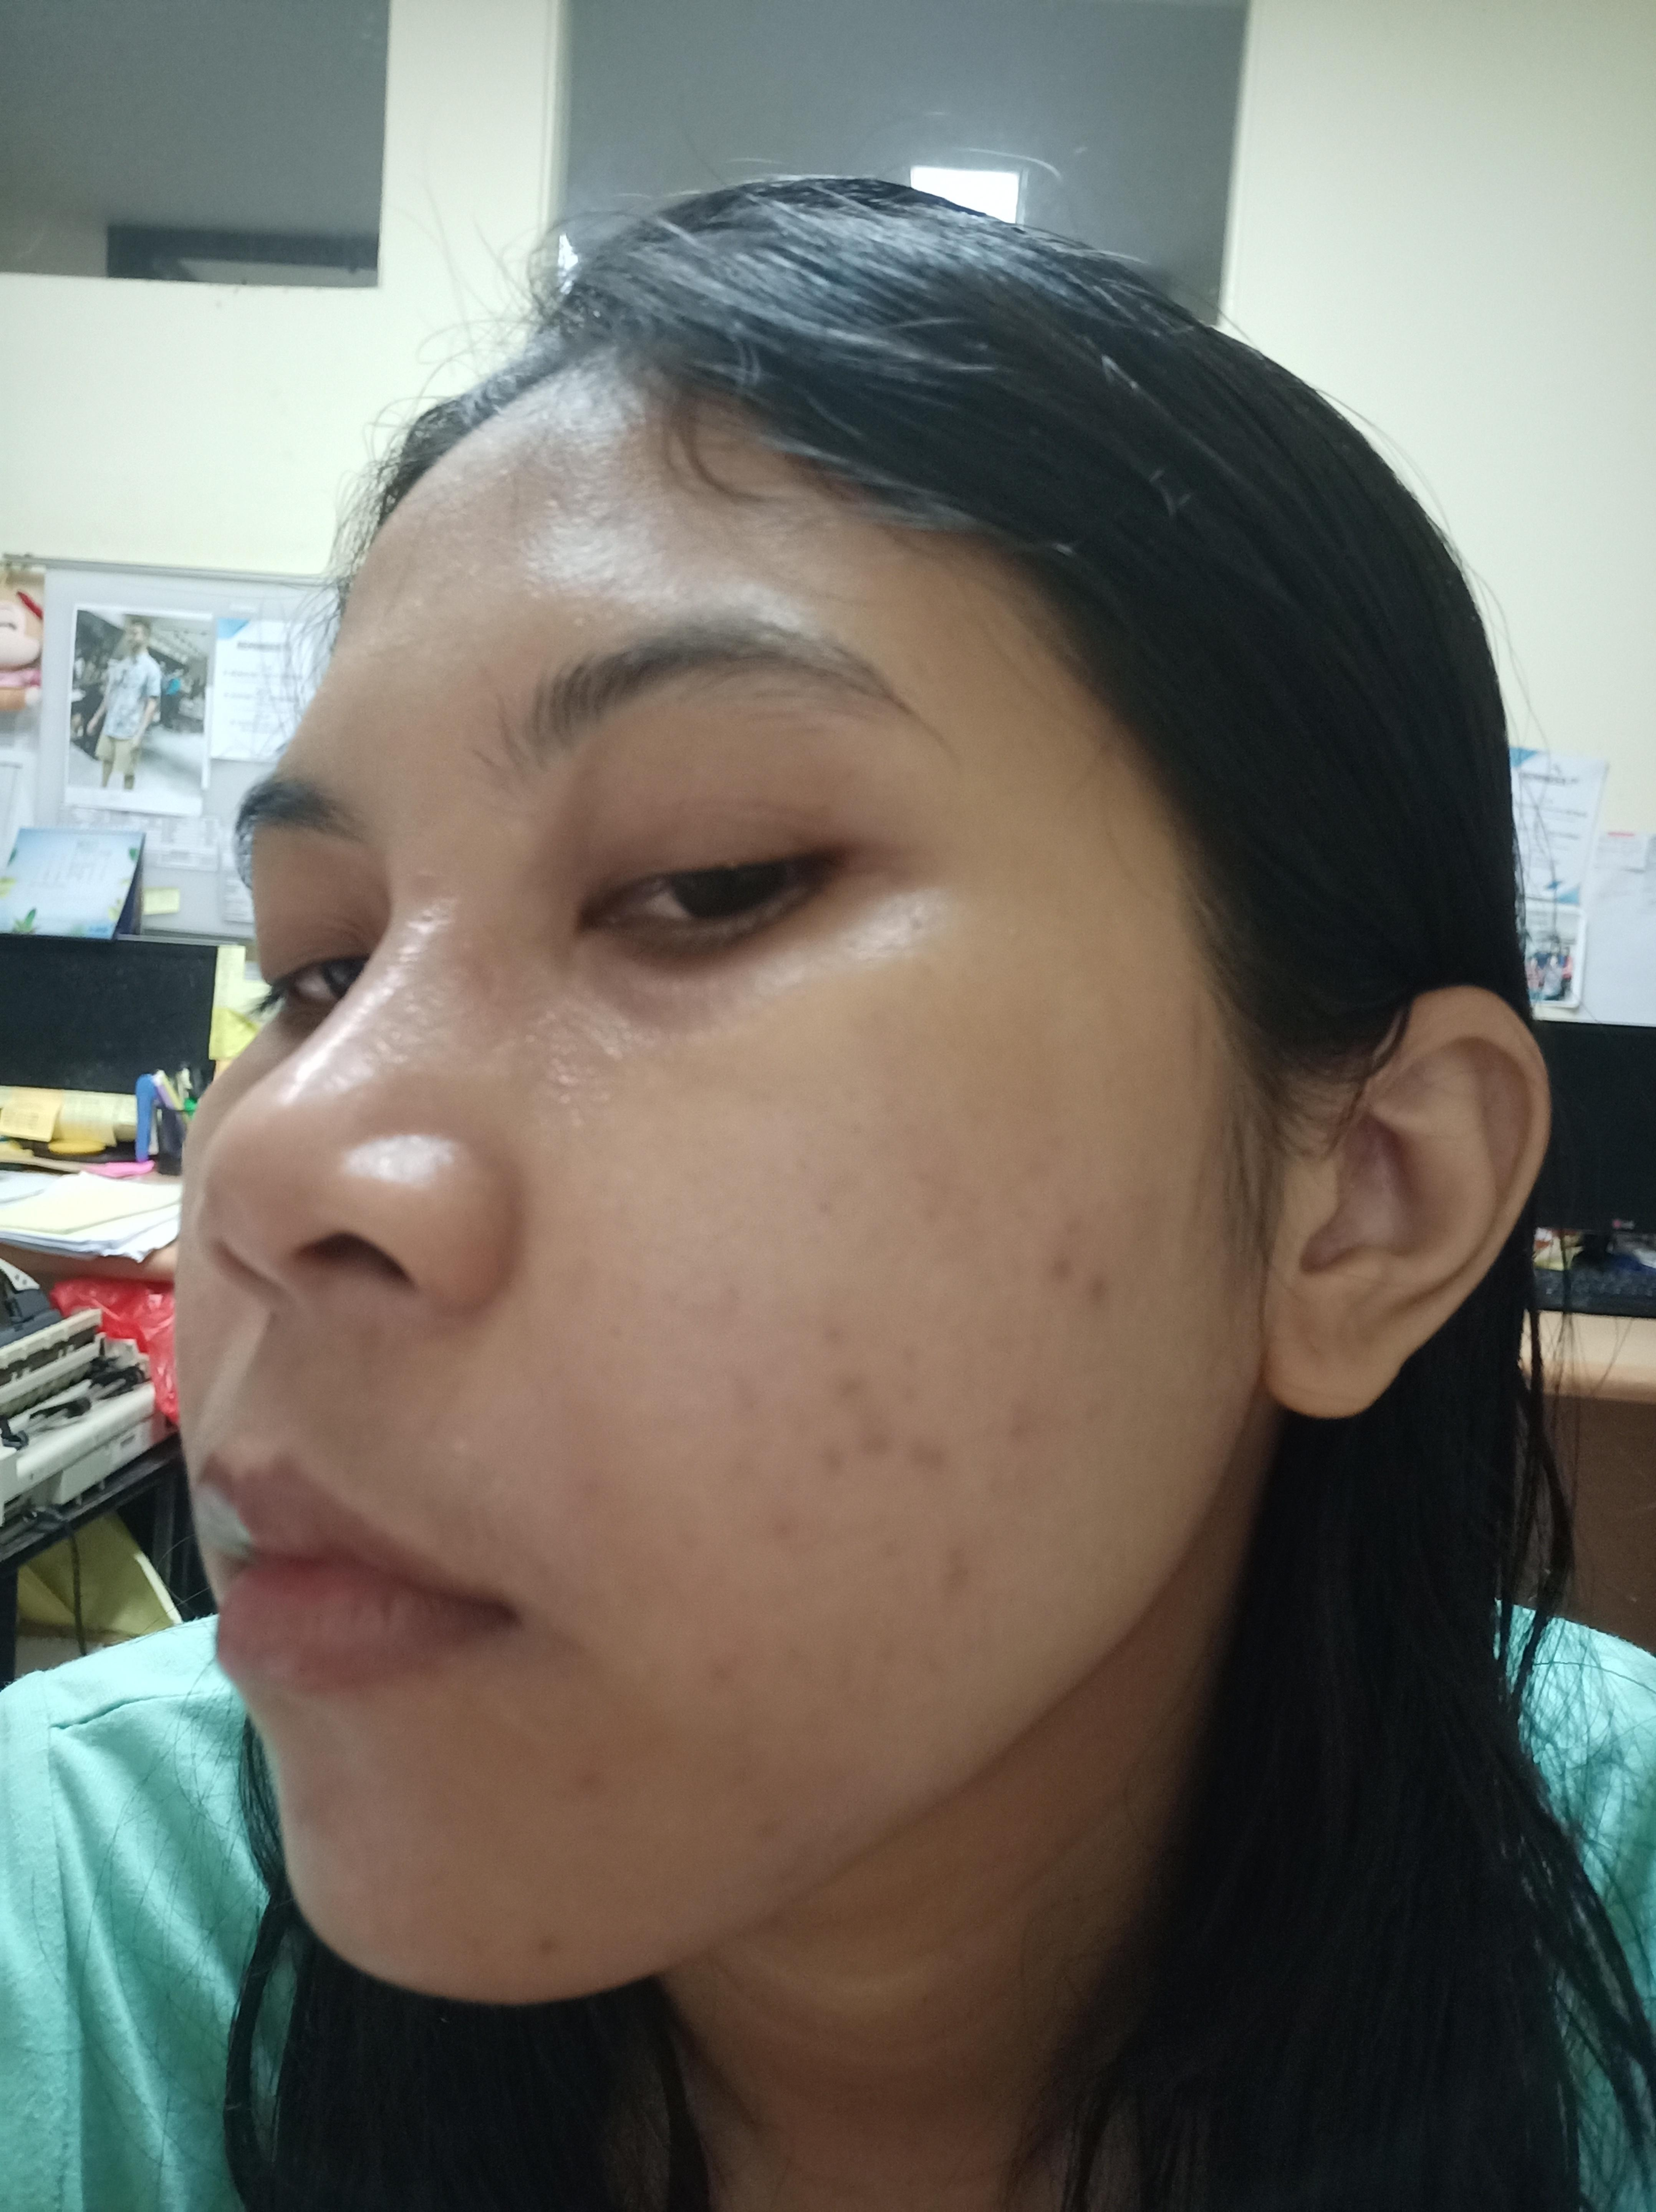Acne: (842, 1386, 913, 1476), (908, 1551, 998, 1617), (995, 1403, 1066, 1468), (717, 1386, 791, 1443), (558, 1763, 631, 1812), (901, 1421, 976, 1468), (698, 1628, 757, 1685), (802, 1435, 858, 1490), (1084, 1269, 1118, 1348), (760, 1494, 811, 1544), (821, 1344, 871, 1393), (743, 1805, 798, 1842), (1049, 1236, 1084, 1285), (527, 1923, 571, 1955)
Eyebags: (574, 934, 840, 1033)
